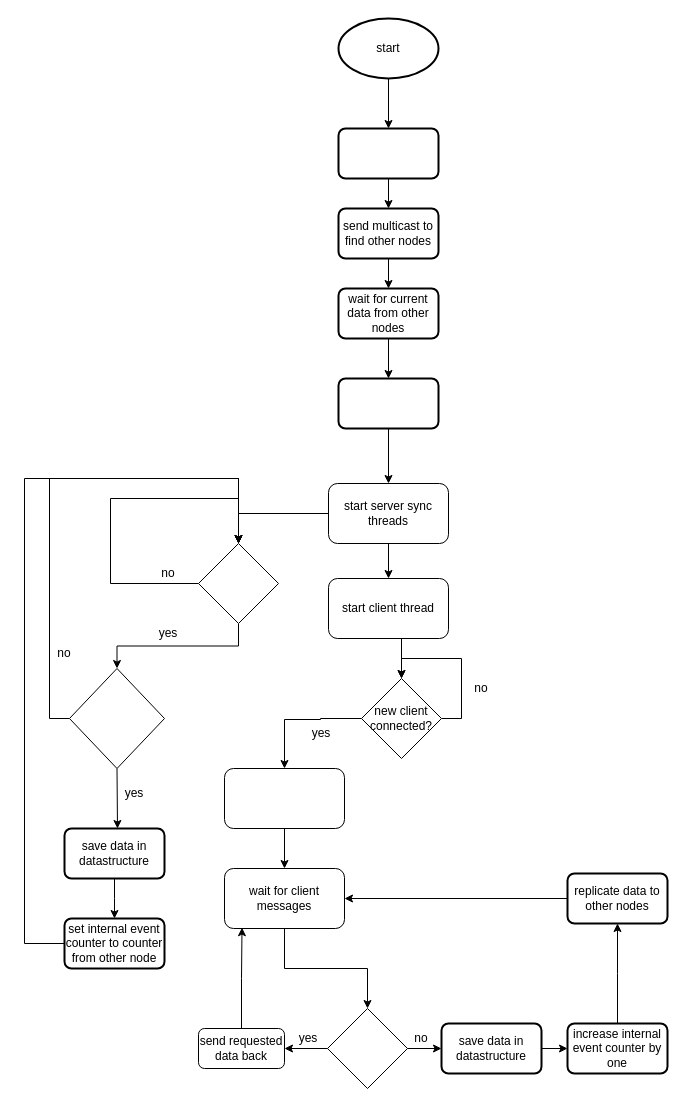
The diagram is 686 pixels wide and 1106 high, and some of its shapes have lost their labels. The shapes that lost their labels are listed below. From the top down, each one's centre as x and y in pixels, then its label:
pixel 388 153: load config
pixel 388 403: ready to receive data from clients
pixel 238 583: update from other node received?
pixel 116 718: counter from other node higher than own counter?
pixel 284 798: start client handle thread
pixel 367 1048: read operation?
